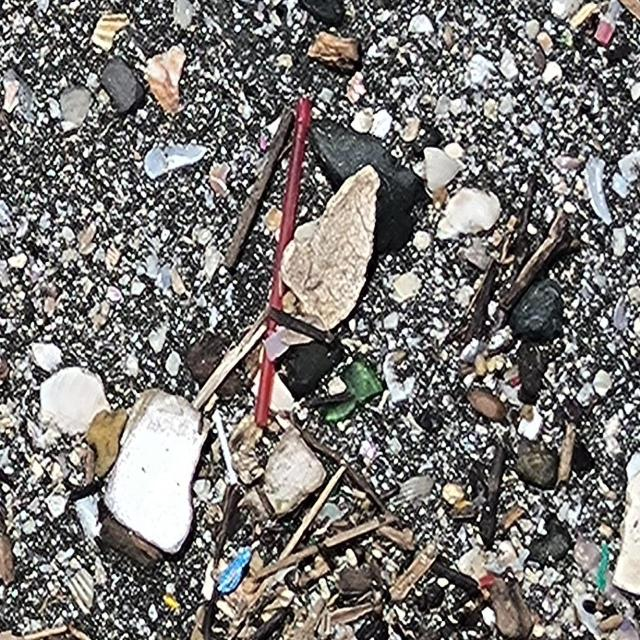plastic_waste: (254, 96, 312, 428)
